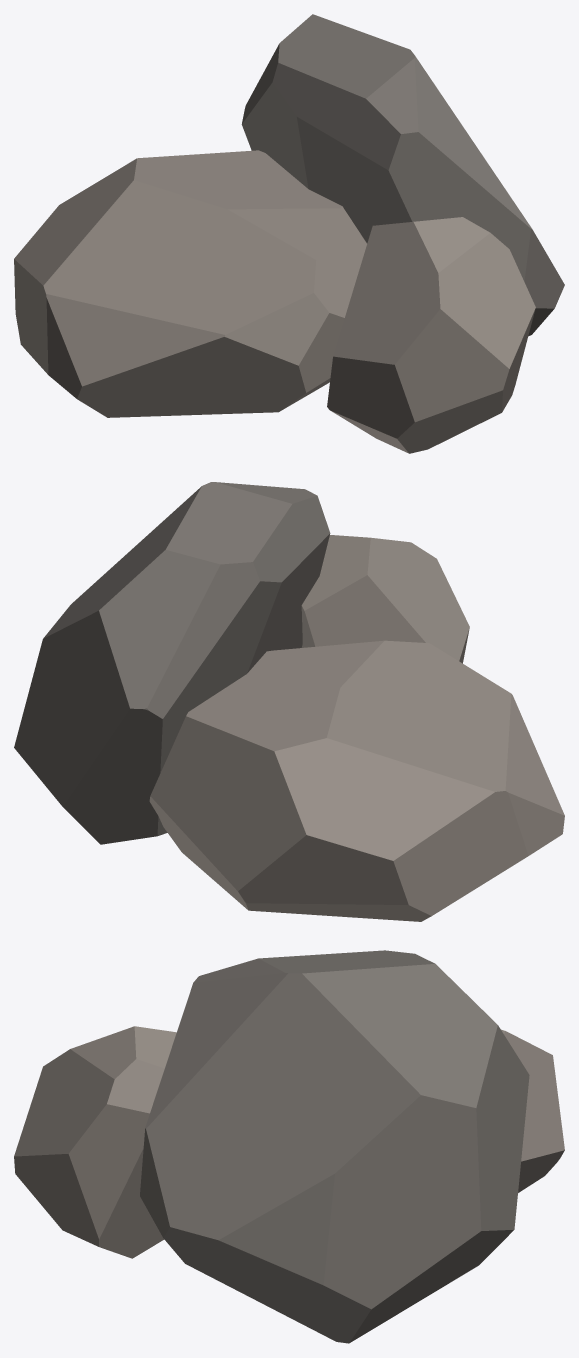
The model's file is boulder2.fbx.
The picture shows the model from 3 angles, top to bottom: view 1: azimuth 30°, elevation 25°; view 2: azimuth 150°, elevation 25°; view 3: azimuth 270°, elevation 25°; orthographic projection. The views are drawn at different scales.
Visible parts, largest first — view 1: Boulder2; view 2: Boulder2; view 3: Boulder2.
Part boxes in pixels (left/top/right/bottom): Boulder2: left=14, top=14, right=564, bottom=453; Boulder2: left=14, top=482, right=564, bottom=921; Boulder2: left=14, top=950, right=564, bottom=1343.
Bounding box in the file's own units: 1.81 × 1.26 × 1.88.
